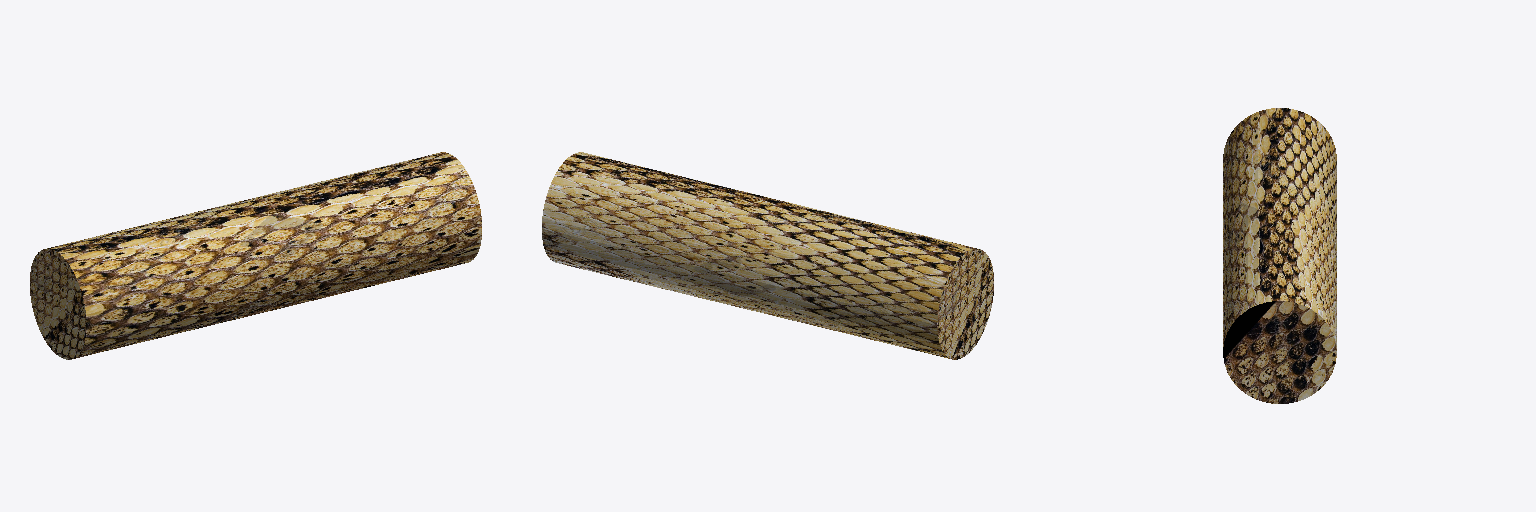
3 views of the same model, side by side, from view 1: azimuth 30°, elevation 25°; view 2: azimuth 150°, elevation 25°; view 3: azimuth 270°, elevation 25° (orthographic).
Parts seen in each view (by area): view 1: snake_line_snake_line_Cylinder.004; view 2: snake_line_snake_line_Cylinder.004; view 3: snake_line_snake_line_Cylinder.004.
Boxes of the visible parts, x1=… form: snake_line_snake_line_Cylinder.004: x1=30, y1=152, x2=481, y2=359; snake_line_snake_line_Cylinder.004: x1=542, y1=152, x2=993, y2=359; snake_line_snake_line_Cylinder.004: x1=1223, y1=108, x2=1336, y2=403.
Size of the model in its own units: 2 by 0.5 by 0.5.
Materials: 1 (1 with a texture image).